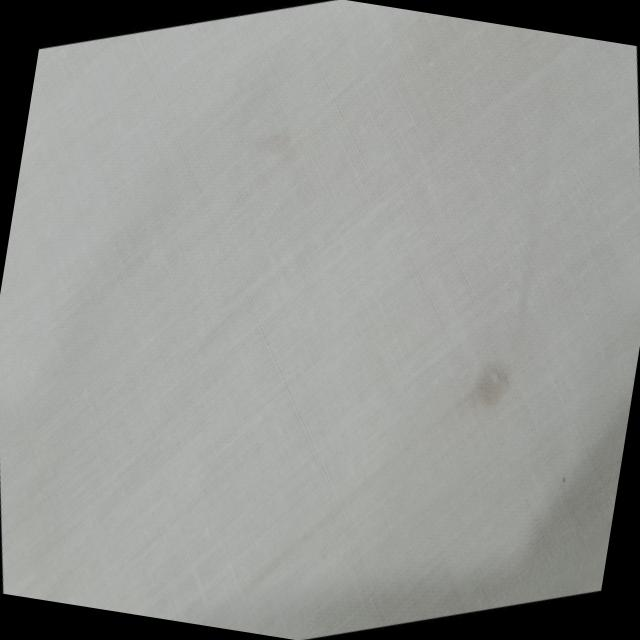stain: (448, 342, 526, 427)
